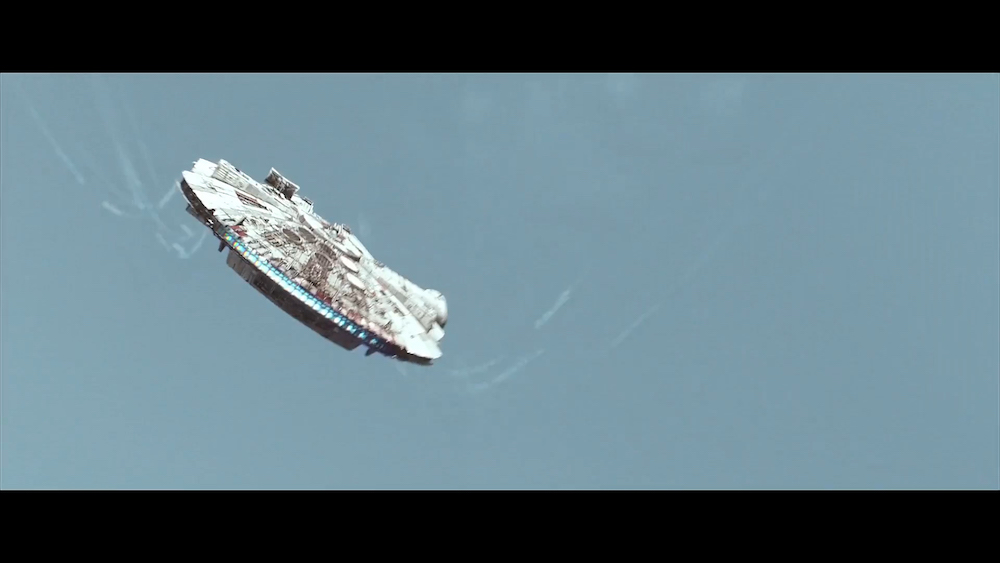Millennium Falcon: (174, 158, 451, 370)
